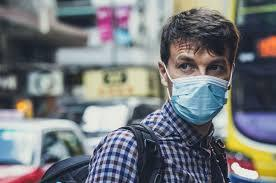mask: (169, 73, 233, 131)
